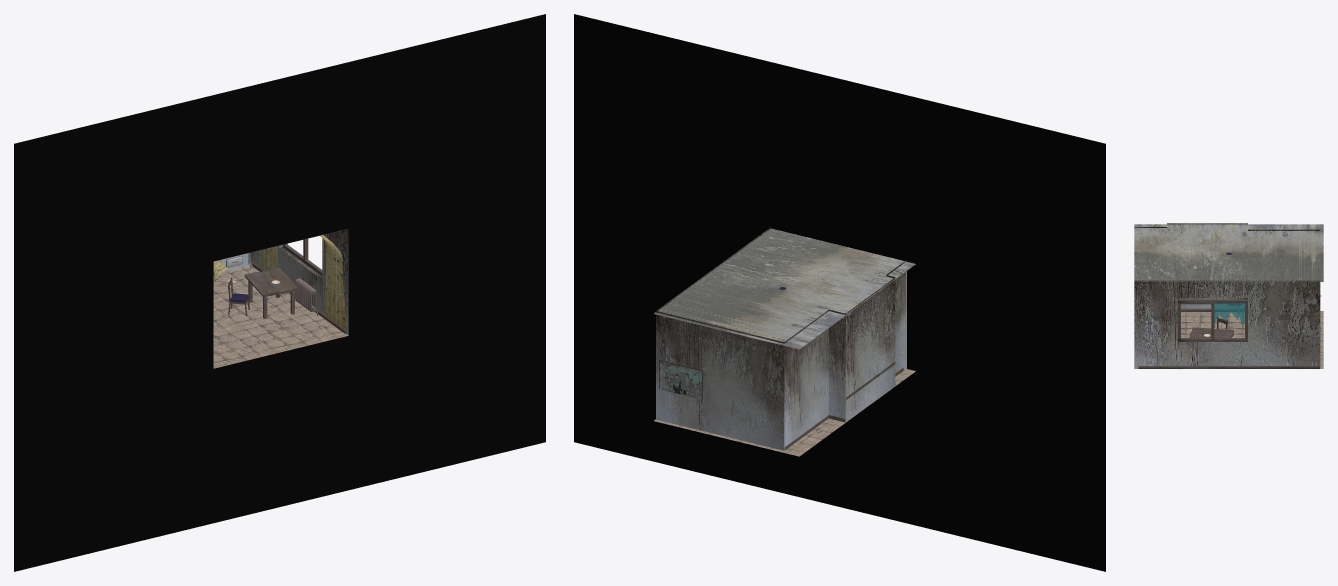
The model's file is forgotten_kitchen._day_4.glb.
The picture shows the model from 3 angles, left to right: view 1: azimuth 30°, elevation 25°; view 2: azimuth 150°, elevation 25°; view 3: azimuth 270°, elevation 25°; orthographic projection. The views are drawn at different scales.
Parts seen in each view (by area): view 1: Plane007, Plane003, Object017_2_0, Box005, Plane001; view 2: Plane007, Object017_2_0, Plane006, Plane003, Box030; view 3: Object017_2_0, Plane006, Box005, Plane003, Box057.
Boxes of the visible parts, x1=… form: Plane007: x1=14, y1=14, x2=545, y2=571; Plane003: x1=213, y1=264, x2=348, y2=368; Object017_2_0: x1=213, y1=228, x2=348, y2=368; Box005: x1=228, y1=238, x2=346, y2=333; Plane001: x1=213, y1=235, x2=346, y2=330; Plane007: x1=574, y1=14, x2=1105, y2=571; Object017_2_0: x1=656, y1=227, x2=906, y2=450; Plane006: x1=653, y1=228, x2=915, y2=349; Plane003: x1=654, y1=369, x2=915, y2=456; Box030: x1=659, y1=361, x2=701, y2=399; Object017_2_0: x1=1134, y1=223, x2=1320, y2=368; Plane006: x1=1134, y1=224, x2=1323, y2=281; Box005: x1=1138, y1=299, x2=1319, y2=368; Plane003: x1=1134, y1=311, x2=1323, y2=368; Box057: x1=1214, y1=303, x2=1244, y2=326.
Size of the model in its own units: 605 by 465 by 230.
Materials: 19 (9 with a texture image).
